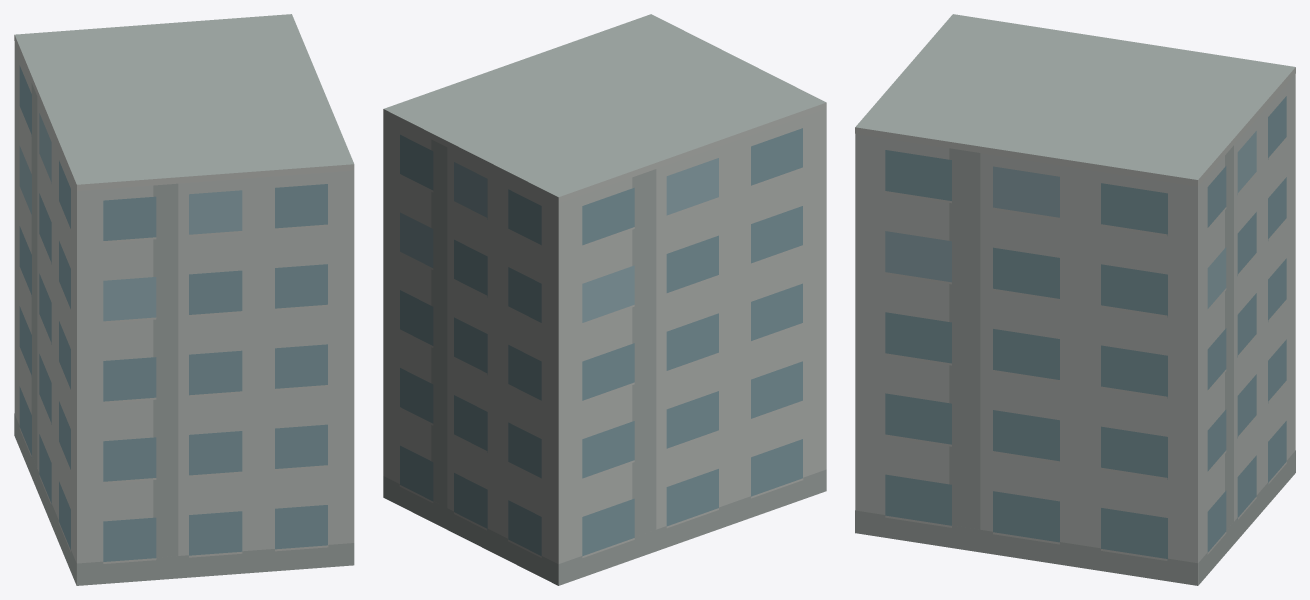
File: residential-d3075164-f3cb-4000-a6ef-8daa6b671b7c.glb
3 views of the same model, side by side, from view 1: azimuth 30°, elevation 25°; view 2: azimuth 150°, elevation 25°; view 3: azimuth 270°, elevation 25° (orthographic). The views are drawn at different scales.
Visible parts, largest first — view 1: residential-d3075164-f3cb-4000-a6ef-8daa6b671b7c.tmp; view 2: residential-d3075164-f3cb-4000-a6ef-8daa6b671b7c.tmp; view 3: residential-d3075164-f3cb-4000-a6ef-8daa6b671b7c.tmp.
Boxes of the visible parts, <box> form: residential-d3075164-f3cb-4000-a6ef-8daa6b671b7c.tmp: <box>14,14,354,585</box>; residential-d3075164-f3cb-4000-a6ef-8daa6b671b7c.tmp: <box>383,14,826,585</box>; residential-d3075164-f3cb-4000-a6ef-8daa6b671b7c.tmp: <box>855,14,1295,585</box>.
Size of the model in its own units: 13.39 by 15.25 by 15.02.
